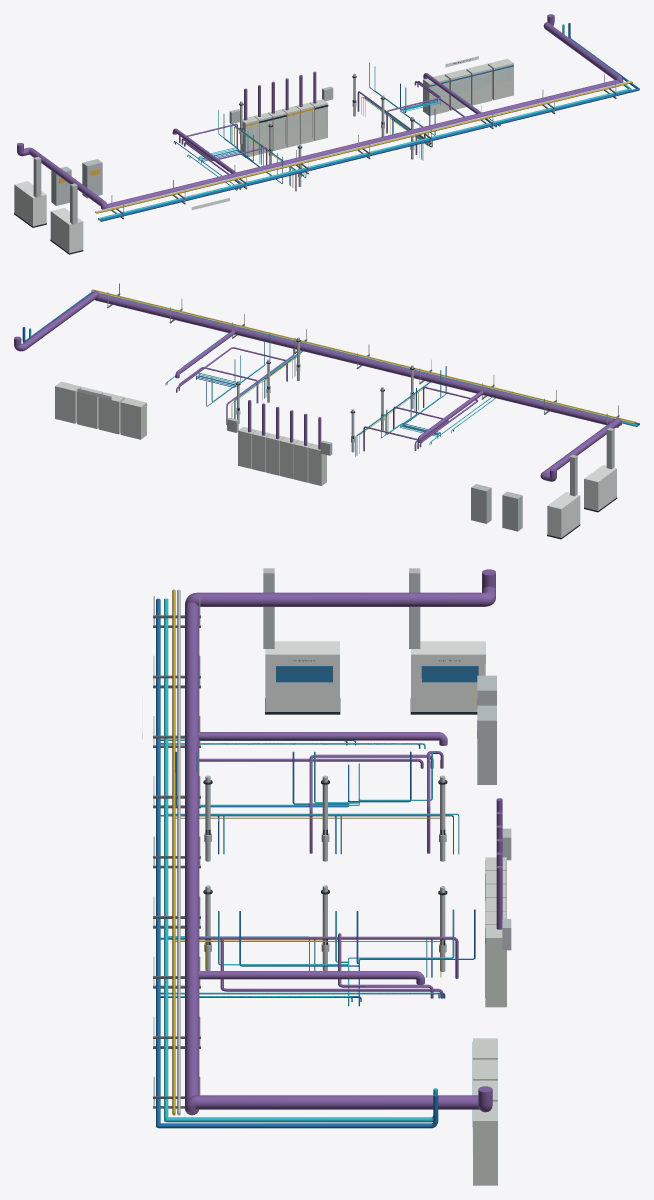
The model's file is fab1-services-north.glb.
The picture shows the model from 3 angles, top to bottom: view 1: azimuth 30°, elevation 25°; view 2: azimuth 150°, elevation 25°; view 3: azimuth 270°, elevation 25°; orthographic projection. The views are drawn at different scales.
Visible parts, largest first — view 1: FAB1_Services_north_GasCabinets, FAB1_Services_north_BCD, FAB1_Services_north_EXH, FAB1_Services_north_PCWS, FAB1_Services_north_Laser_SCN_01, FAB1_Services_north_Laser_SCN_02, FAB1_Services_north_PCWR, FAB1_Services_north_PDU, FAB1_Services_north_N2, FAB1_Services_north_CDA, FAB1_Services_north_ExhaustRiser_NW, FAB1_Services_north_ExhaustRiser_NE (+2 smaller); view 2: FAB1_Services_north_GasCabinets, FAB1_Services_north_EXH, FAB1_Services_north_BCD, FAB1_Services_north_Laser_SCN_01, FAB1_Services_north_Laser_SCN_02, FAB1_Services_north_PDU, FAB1_Services_north_CDA, FAB1_Services_north_N2, FAB1_Services_north_ExhaustRiser_NE, FAB1_Services_north_ExhaustRiser_NW, FAB1_Services_north_PCWR, FAB1_Services_north_Hangers (+1 smaller); view 3: FAB1_Services_north_EXH, FAB1_Services_north_Laser_SCN_01, FAB1_Services_north_Laser_SCN_02, FAB1_Services_north_ExhaustRiser_NW, FAB1_Services_north_ExhaustRiser_NE, FAB1_Services_north_GasCabinets, FAB1_Services_north_BCD, FAB1_Services_north_PCWS, FAB1_Services_north_PCWR, FAB1_Services_north_Hangers, FAB1_Services_north_ScrubberOutlet_SCR_01, FAB1_Services_north_PDU (+9 smaller).
Boxes of the visible parts, x1,y1,x2,y2 form: FAB1_Services_north_GasCabinets: (229,71,333,157); FAB1_Services_north_BCD: (423,58,513,115); FAB1_Services_north_EXH: (107,80,620,210); FAB1_Services_north_PCWS: (100,88,639,221); FAB1_Services_north_Laser_SCN_01: (50,183,83,254); FAB1_Services_north_Laser_SCN_02: (14,156,46,227); FAB1_Services_north_PCWR: (98,88,631,220); FAB1_Services_north_PDU: (51,159,102,205); FAB1_Services_north_N2: (96,81,632,213); FAB1_Services_north_CDA: (95,80,631,212); FAB1_Services_north_ExhaustRiser_NW: (17,143,107,209); FAB1_Services_north_ExhaustRiser_NE: (543,14,623,82); FAB1_Services_north_GasCabinets: (227,400,332,485); FAB1_Services_north_EXH: (95,294,619,427); FAB1_Services_north_BCD: (55,381,147,439); FAB1_Services_north_Laser_SCN_01: (584,427,617,512); FAB1_Services_north_Laser_SCN_02: (547,455,580,539); FAB1_Services_north_PDU: (471,484,522,531); FAB1_Services_north_CDA: (91,290,634,423); FAB1_Services_north_N2: (92,289,635,423); FAB1_Services_north_ExhaustRiser_NE: (14,291,99,351); FAB1_Services_north_ExhaustRiser_NW: (540,418,621,481); FAB1_Services_north_PCWR: (100,294,638,426); FAB1_Services_north_Hangers: (107,283,619,424); FAB1_Services_north_EXH: (185,602,199,1115); FAB1_Services_north_Laser_SCN_01: (263,568,340,714); FAB1_Services_north_Laser_SCN_02: (409,568,485,714); FAB1_Services_north_ExhaustRiser_NW: (185,569,495,606); FAB1_Services_north_ExhaustRiser_NE: (185,1086,492,1112); FAB1_Services_north_GasCabinets: (485,798,511,1007); FAB1_Services_north_BCD: (472,1038,497,1185); FAB1_Services_north_PCWS: (156,598,160,1127); FAB1_Services_north_PCWR: (164,598,168,1121); FAB1_Services_north_Hangers: (153,596,200,1108); FAB1_Services_north_ScrubberOutlet_SCR_01: (197,732,447,745); FAB1_Services_north_PDU: (477,675,496,784).
Size of the model in its own units: 35.33 by 4.2 by 10.36.
2 materials, 1 textured.
